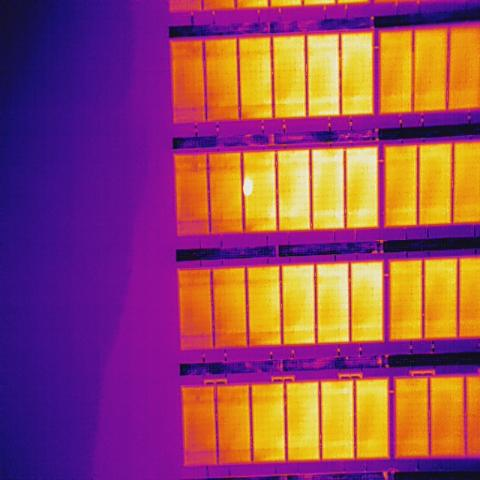fault: (242, 174, 255, 198)
